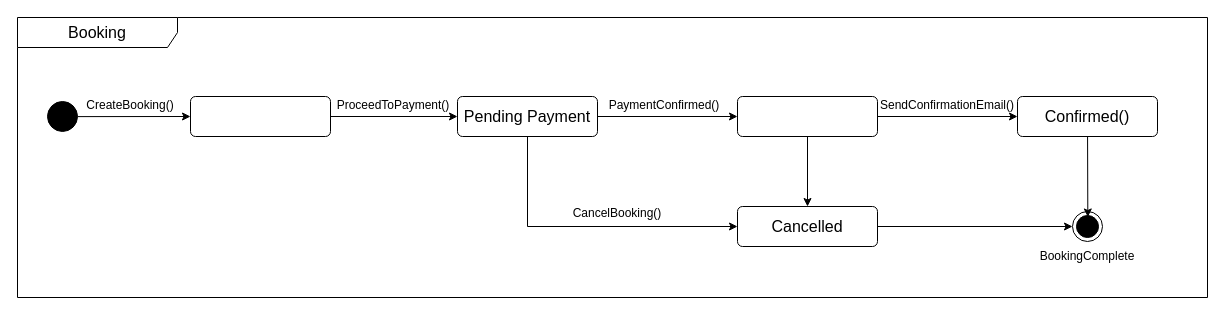
The diagram is 1225 pixels wide and 315 high, and some of its shapes have lost their labels. The centre of each missing label's shape, as x and y in pixels:
"Created" goes at [260,116].
"Paid()" goes at [807,116].
